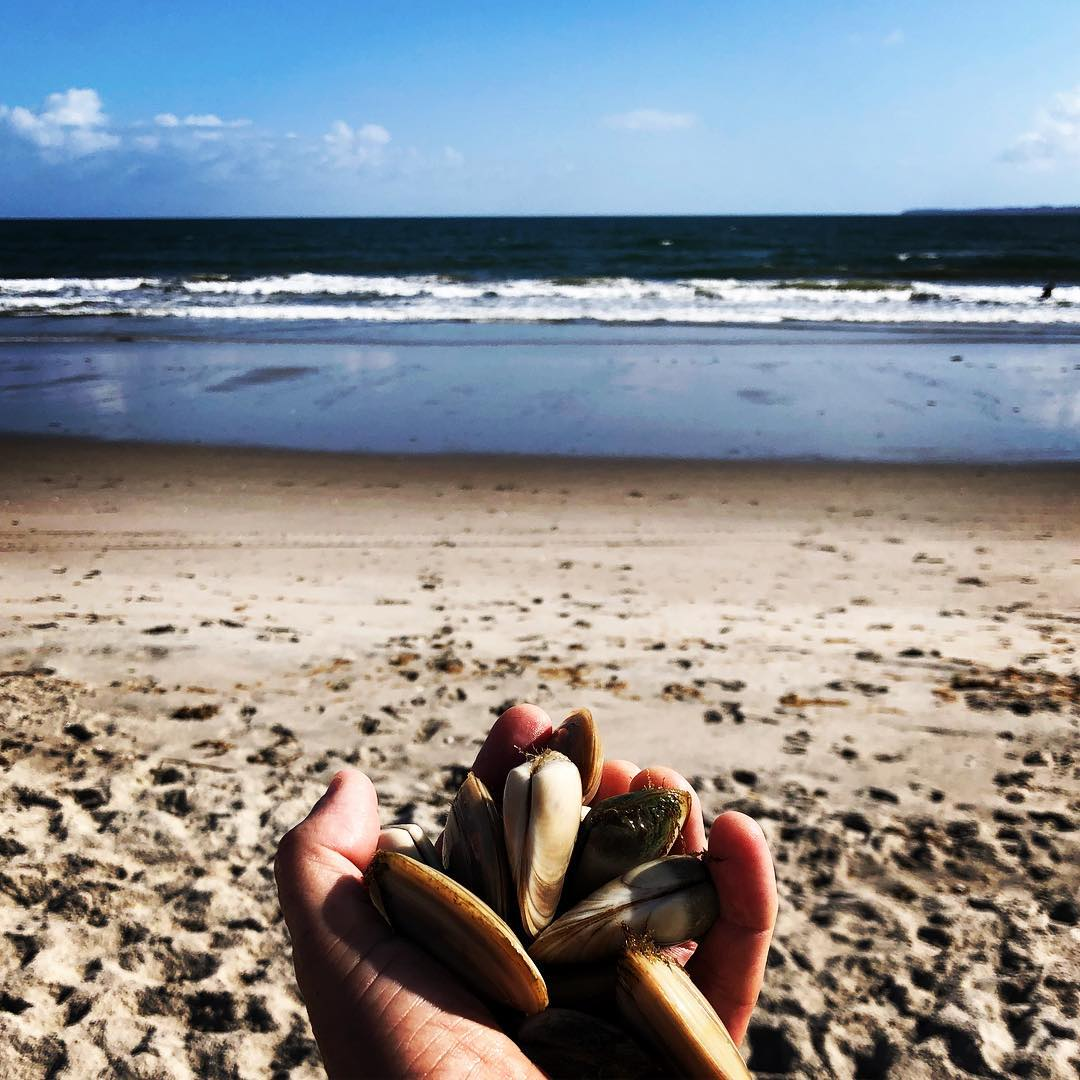tuatua: (370, 844, 555, 1012), (612, 943, 752, 1078), (535, 850, 715, 951), (502, 749, 584, 936), (580, 789, 691, 871)
